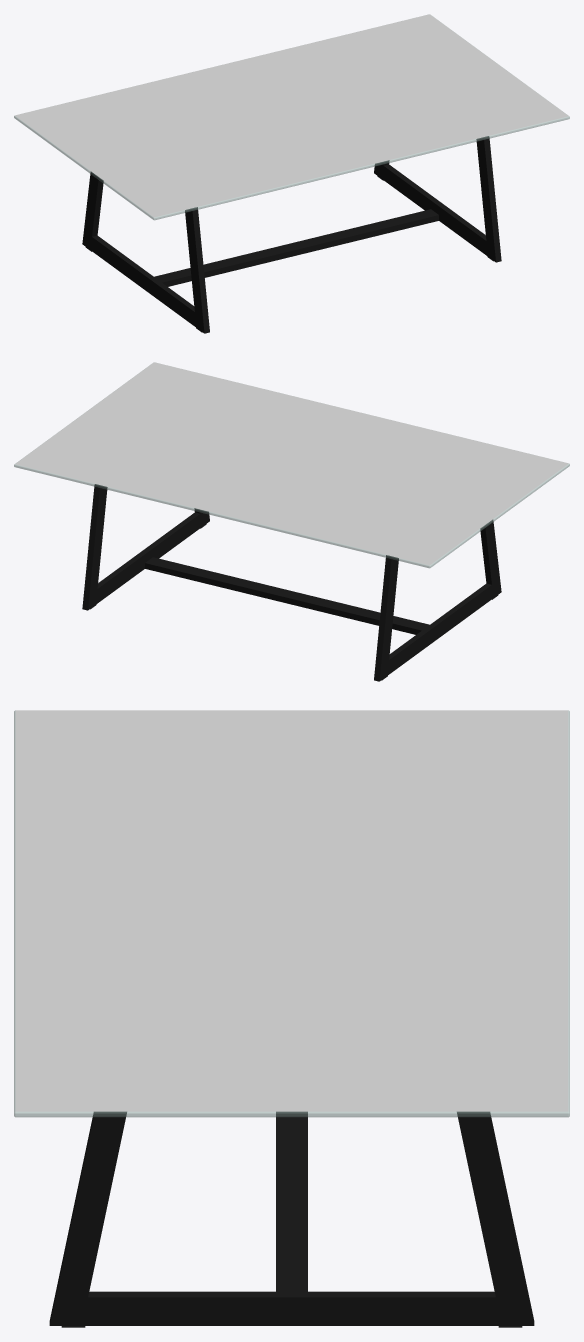
Rendered from mesa_vidro.glb.
The picture shows the model from 3 angles, top to bottom: view 1: azimuth 30°, elevation 25°; view 2: azimuth 150°, elevation 25°; view 3: azimuth 270°, elevation 25°; orthographic projection. The views are drawn at different scales.
Parts seen in each view (by area): view 1: tampo_vidro, quadro_esq, quadro_dir, barra_longitudinal, tampo_vidro_borda; view 2: tampo_vidro, quadro_esq, quadro_dir, barra_longitudinal, tampo_vidro_borda; view 3: tampo_vidro, quadro_dir, barra_longitudinal, tampo_vidro_borda.
Boxes of the visible parts, x1,y1,x2,y2 form: tampo_vidro: (15, 14, 568, 217); quadro_esq: (82, 171, 209, 333); quadro_dir: (374, 136, 501, 262); barra_longitudinal: (154, 209, 438, 286); tampo_vidro_borda: (14, 116, 569, 220); tampo_vidro: (15, 362, 568, 565); quadro_esq: (374, 519, 501, 681); quadro_dir: (82, 484, 209, 610); barra_longitudinal: (145, 557, 429, 634); tampo_vidro_borda: (14, 463, 569, 568); tampo_vidro: (15, 710, 568, 1111); quadro_dir: (49, 1111, 534, 1325); barra_longitudinal: (276, 1111, 307, 1291); tampo_vidro_borda: (14, 710, 569, 1117).
Bounding box in the file's own units: 1.2 × 0.38 × 0.7.
